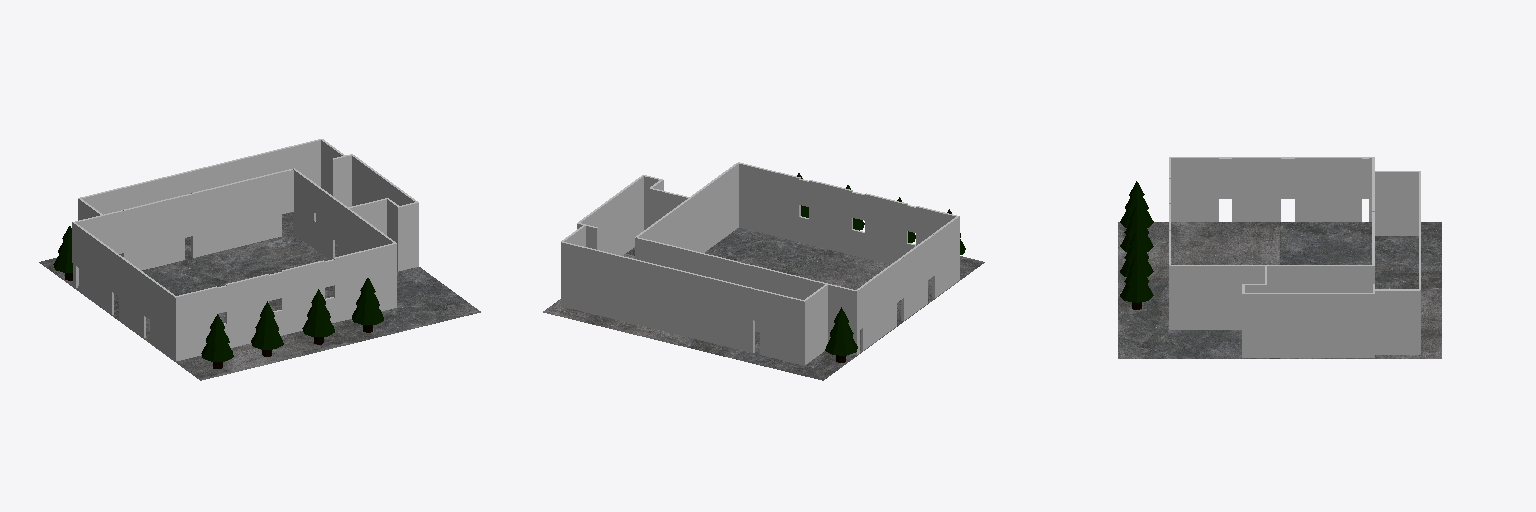
3 renders of one model, left to right at view 1: azimuth 30°, elevation 25°; view 2: azimuth 150°, elevation 25°; view 3: azimuth 270°, elevation 25°, orthographic.
Visible parts, largest first — view 1: Cube_Material.002, Cube_Material.003, Cube_Material.007, Cube_Material.011, Cube_Material.004, Cube_Material.009, Cube_Material.013; view 2: Cube_Material.002, Cube_Material.003, Cube_Material.013; view 3: Cube_Material.002, Cube_Material.003, Cube_Material.009, Cube_Material.007, Cube_Material.011, Cube_Material.004.
Part boxes in pixels (x1,y1,x2,y2): Cube_Material.002: (72, 139, 418, 361); Cube_Material.003: (39, 212, 480, 380); Cube_Material.007: (251, 301, 283, 349); Cube_Material.011: (201, 314, 233, 361); Cube_Material.004: (302, 289, 334, 336); Cube_Material.009: (352, 278, 383, 324); Cube_Material.013: (53, 226, 72, 272); Cube_Material.002: (561, 162, 959, 365); Cube_Material.003: (543, 228, 984, 380); Cube_Material.013: (825, 307, 857, 355); Cube_Material.002: (1169, 157, 1420, 357); Cube_Material.003: (1118, 222, 1441, 358); Cube_Material.009: (1120, 255, 1153, 302); Cube_Material.007: (1120, 206, 1153, 251); Cube_Material.011: (1120, 181, 1153, 227); Cube_Material.004: (1120, 231, 1153, 276).
Size of the model in its own units: 95.54 by 20.41 by 92.86.
12 materials, 1 textured.